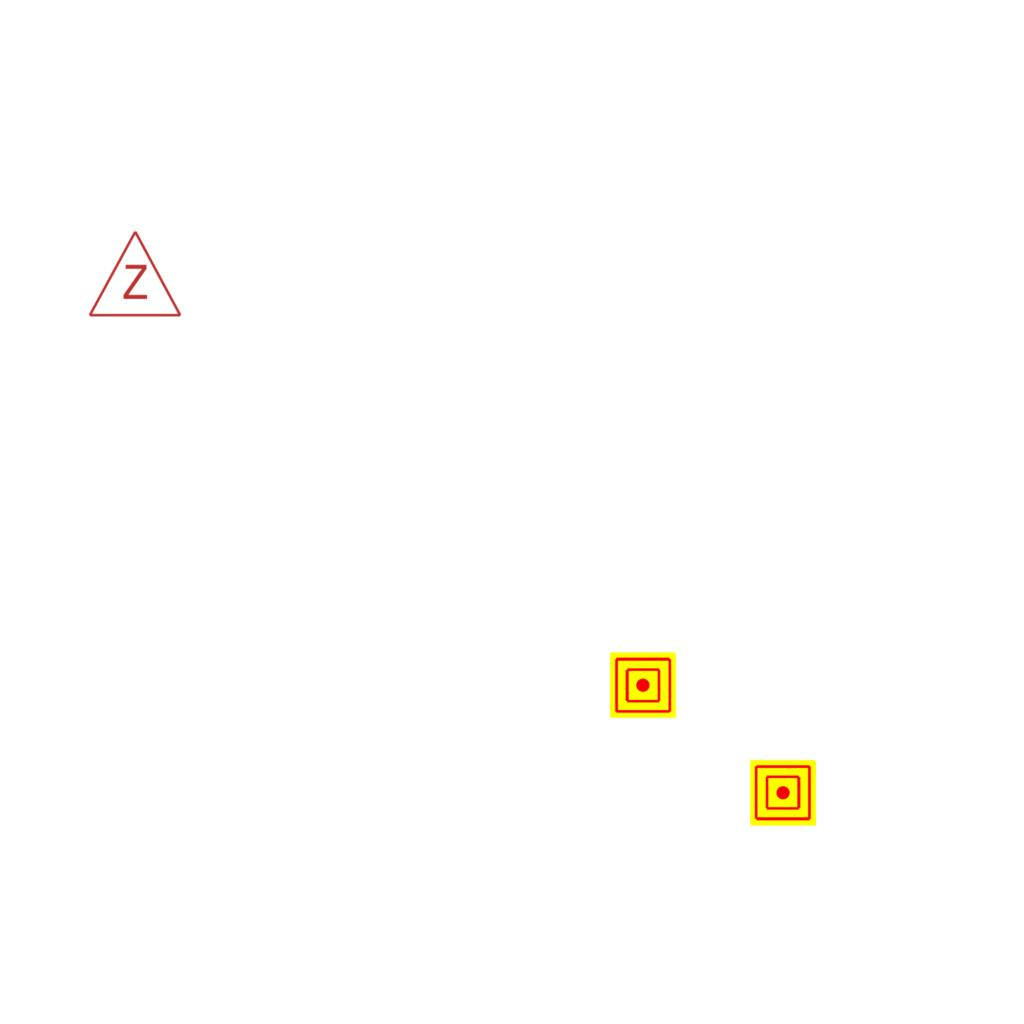NAM-Nichtautomatischer_Melder: (610, 652, 676, 718), (750, 760, 816, 826)
Zimmersignalleuchte: (85, 224, 183, 324)
